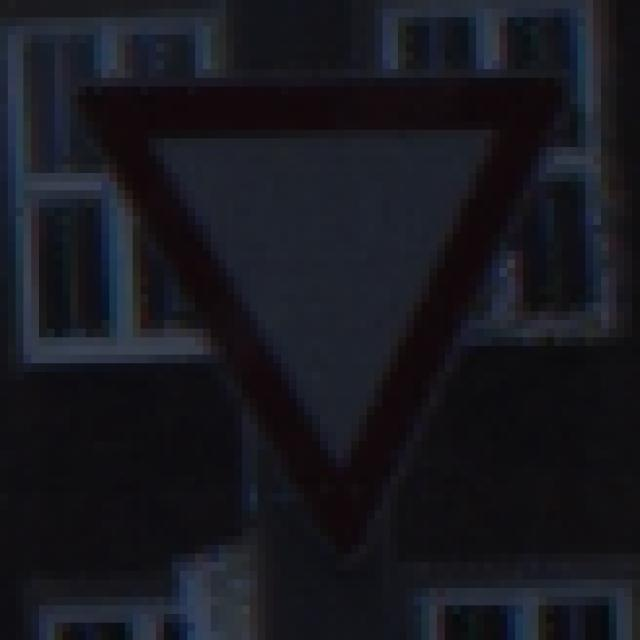Give Way: (56, 53, 586, 589)
